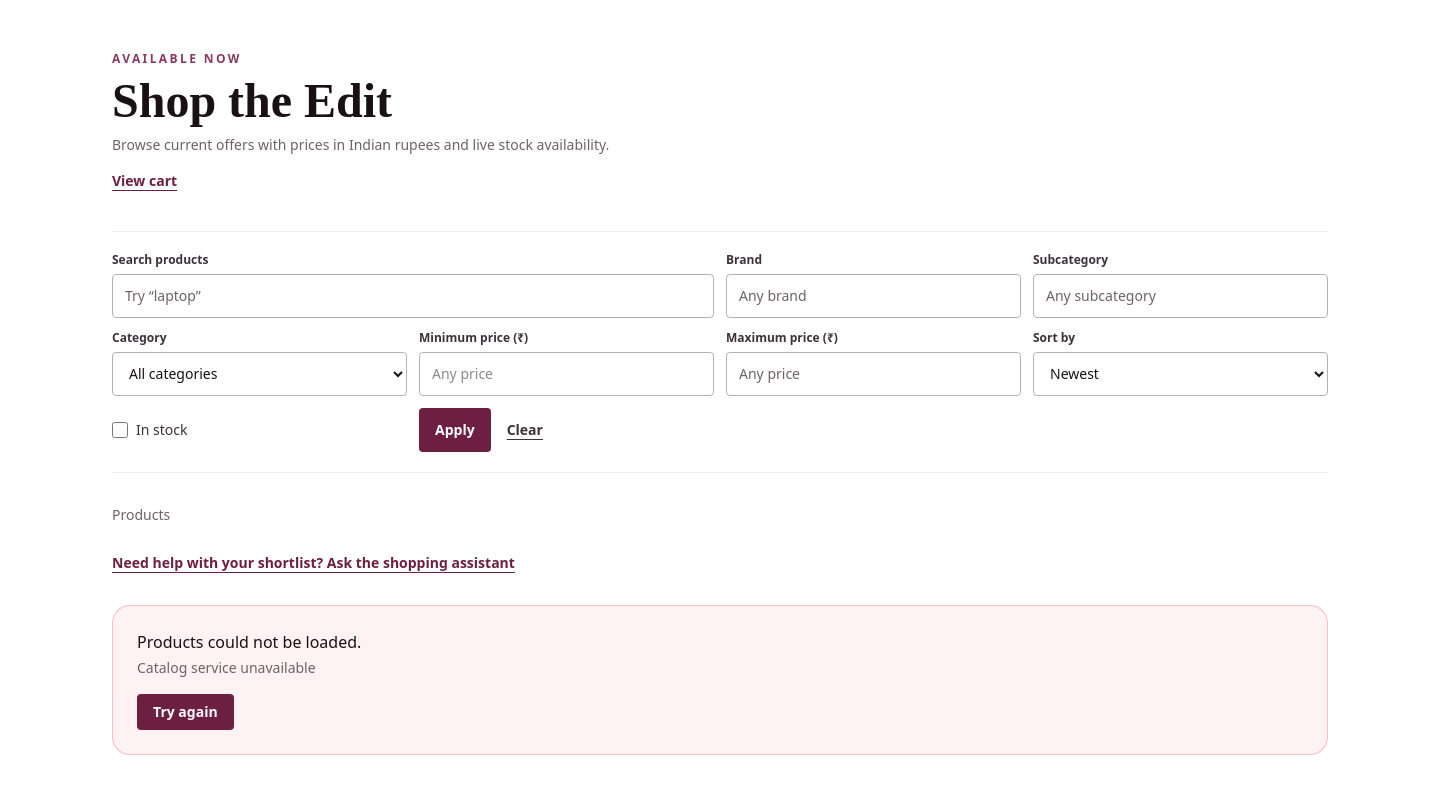
Test case: ProductCatalog › shows request failures and retries the current page
Expected: the message shows "Catalog service unavailable", [137,658,316,677]
Click the button "Try again" at (185, 712), box [137,694,234,730]
(page scrolled)
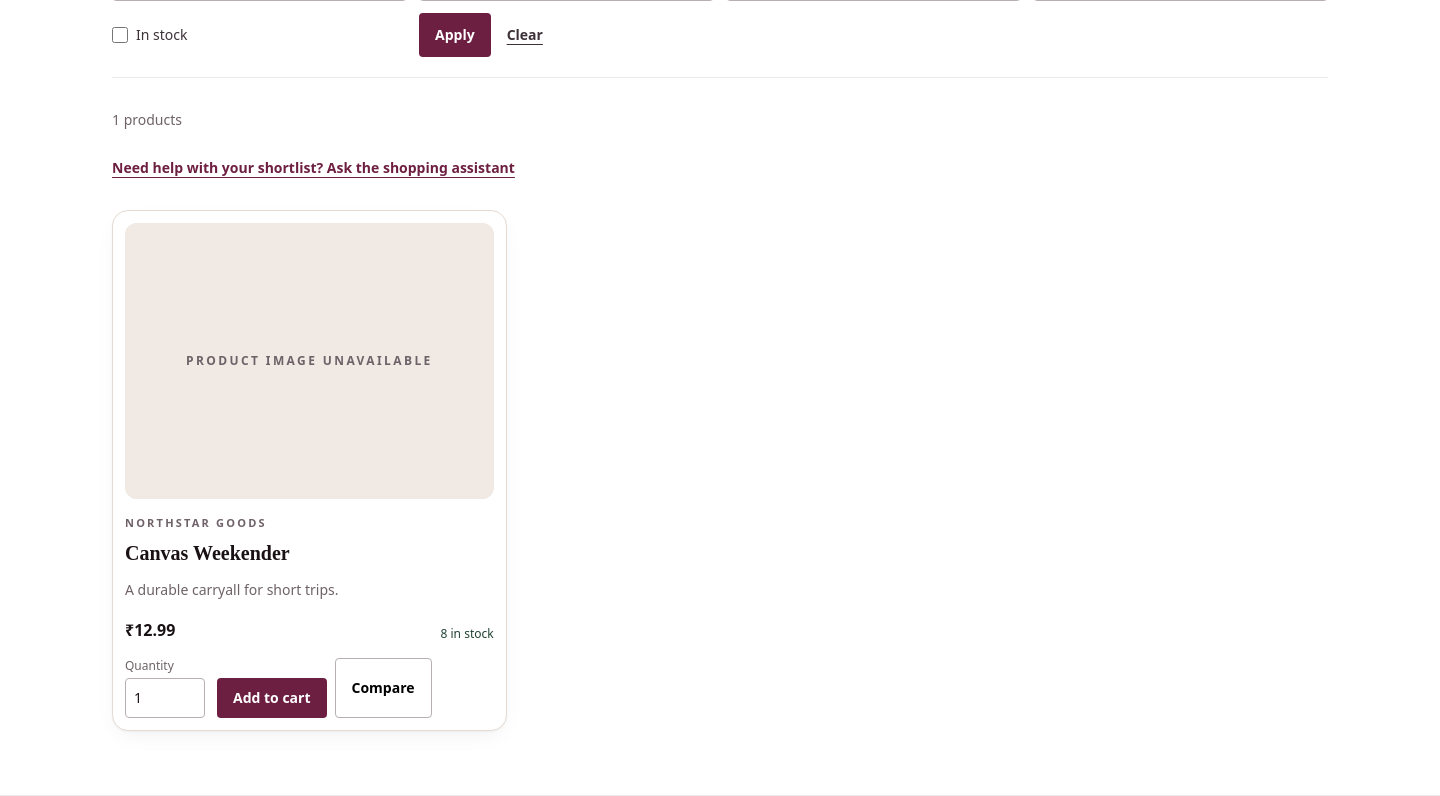
Now the heading "Canvas Weekender" is shown, box [125,536,290,571]
